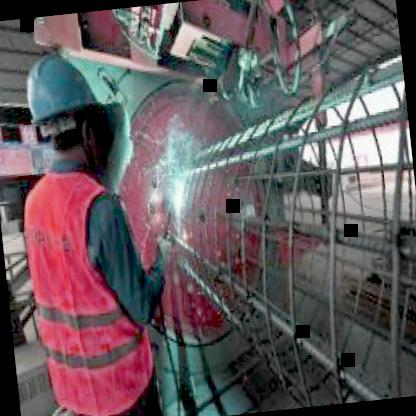helmet: (11, 38, 118, 190)
